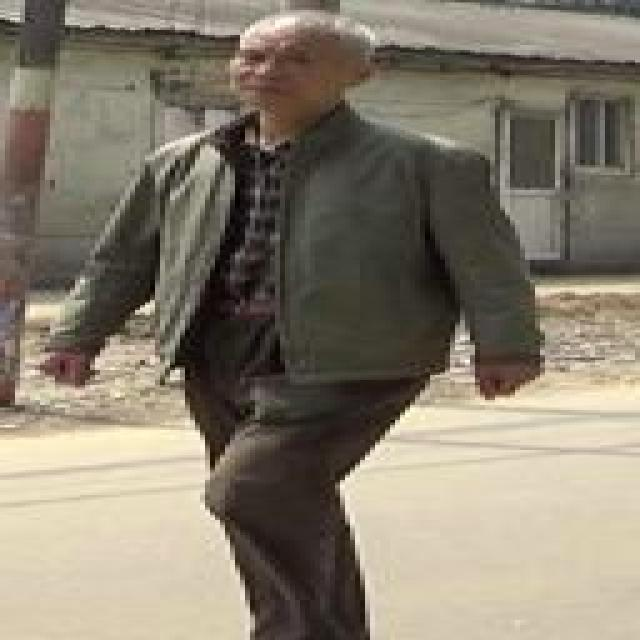adult: (51, 9, 532, 640)
